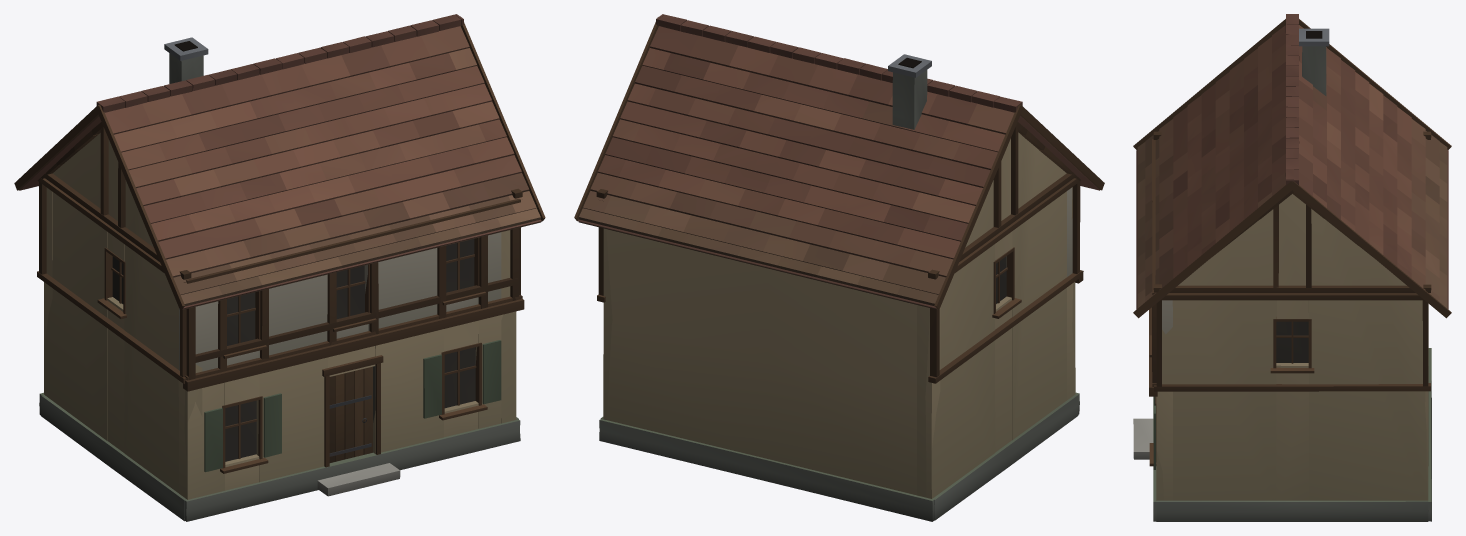
The model's file is ph_bld_v_house_a.glb.
3 renders of one model, left to right at view 1: azimuth 30°, elevation 25°; view 2: azimuth 150°, elevation 25°; view 3: azimuth 270°, elevation 25°, orthographic. The views are drawn at different scales.
Parts seen in each view (by area): view 1: ph_bld_v_house_a; view 2: ph_bld_v_house_a; view 3: ph_bld_v_house_a.
Part boxes in pixels (x1,y1,x2,y2): ph_bld_v_house_a: [14, 14, 545, 521]; ph_bld_v_house_a: [574, 14, 1104, 521]; ph_bld_v_house_a: [1133, 14, 1451, 521].
Size of the model in its own units: 7.29 by 7.56 by 5.85.
